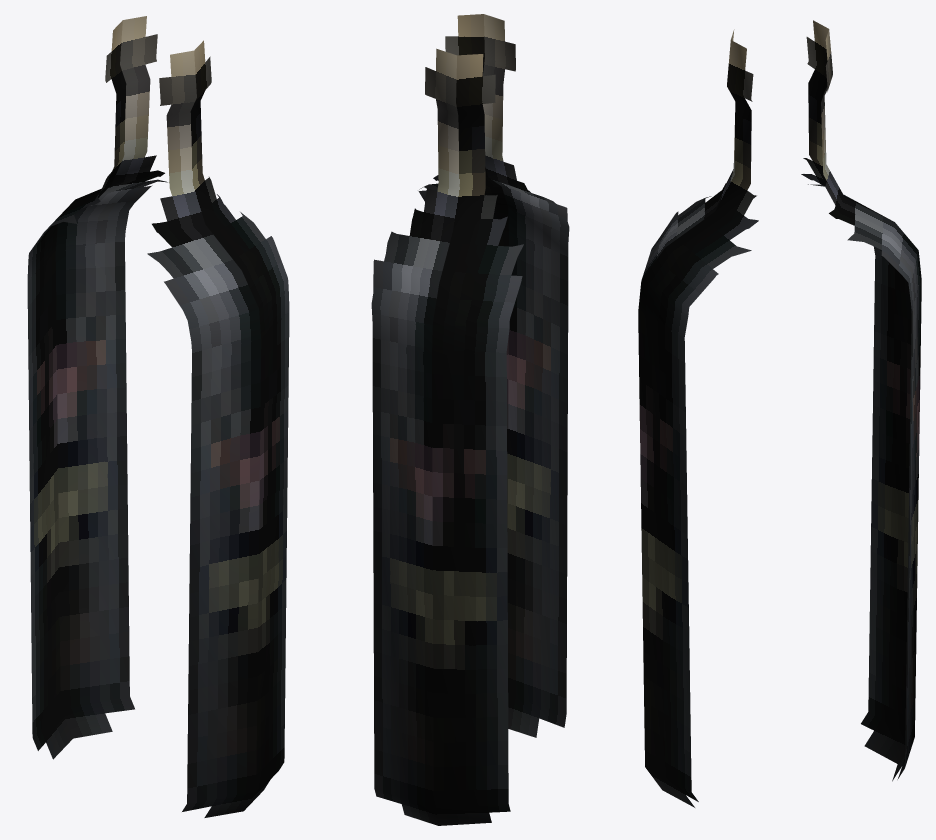
File: SlenderDoe.fbx
3 views of the same model, side by side, from view 1: azimuth 30°, elevation 25°; view 2: azimuth 150°, elevation 25°; view 3: azimuth 270°, elevation 25° (orthographic).
Parts seen in each view (by area): view 1: Item_SlenderDoe; view 2: Item_SlenderDoe; view 3: Item_SlenderDoe.
Part boxes in pixels (box(x1,y1,x2,y2)): Item_SlenderDoe: box(27, 16, 289, 817); Item_SlenderDoe: box(371, 14, 569, 825); Item_SlenderDoe: box(638, 20, 921, 807).
Size of the model in its own units: 0.2182 by 0.6423 by 0.2223.
Materials: 1 (1 with a texture image).
